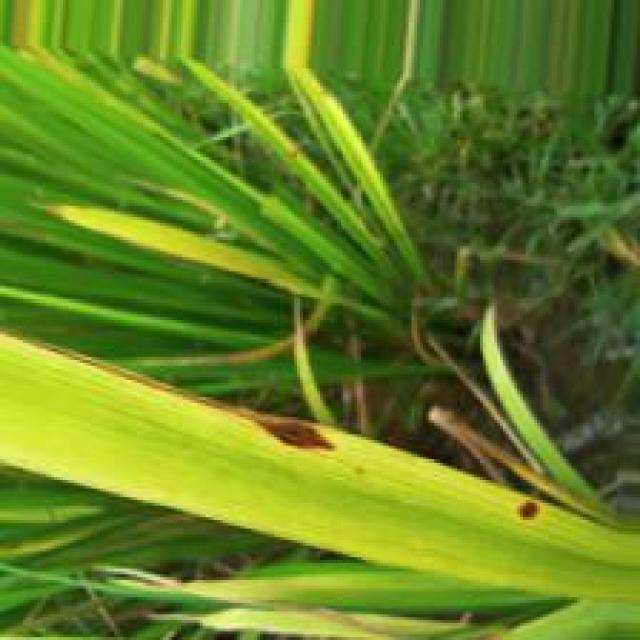Narrow_Brown_Leaf_Spot: (261, 421, 333, 458), (514, 496, 546, 521)
